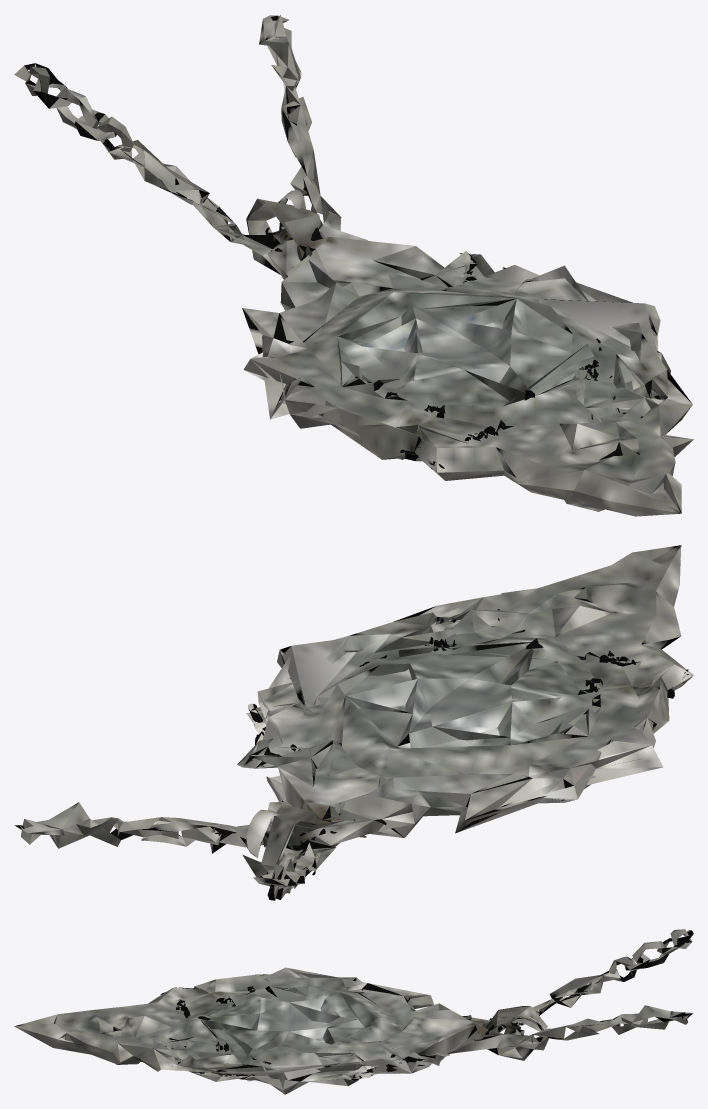
File: medallion_LOD2.glb
The picture shows the model from 3 angles, top to bottom: view 1: azimuth 30°, elevation 25°; view 2: azimuth 150°, elevation 25°; view 3: azimuth 270°, elevation 25°; orthographic projection. The views are drawn at different scales.
Visible parts, largest first — view 1: medallion_LOD2; view 2: medallion_LOD2; view 3: medallion_LOD2.
Part boxes in pixels (left/top/right/bottom): medallion_LOD2: left=14, top=15, right=693, bottom=516; medallion_LOD2: left=14, top=545, right=693, bottom=900; medallion_LOD2: left=14, top=929, right=693, bottom=1094.
Bounding box in the file's own units: 0.0499 × 0.0187 × 0.1193.
1 material, 1 textured.
